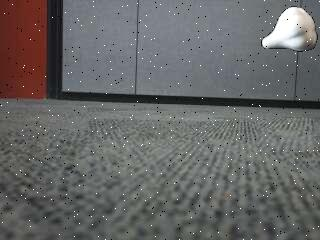Garlic: (261, 7, 318, 53)
